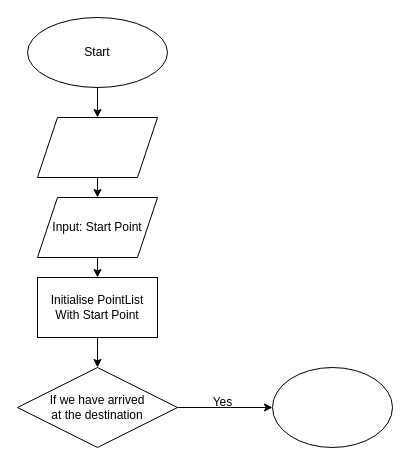
This 410x465 diagram has some shape labels left out. The centre of each missing label's shape, as x and y in pixels:
"Input: TimeStep" belongs at pixel 97 147.
"Stop" belongs at pixel 332 407.
